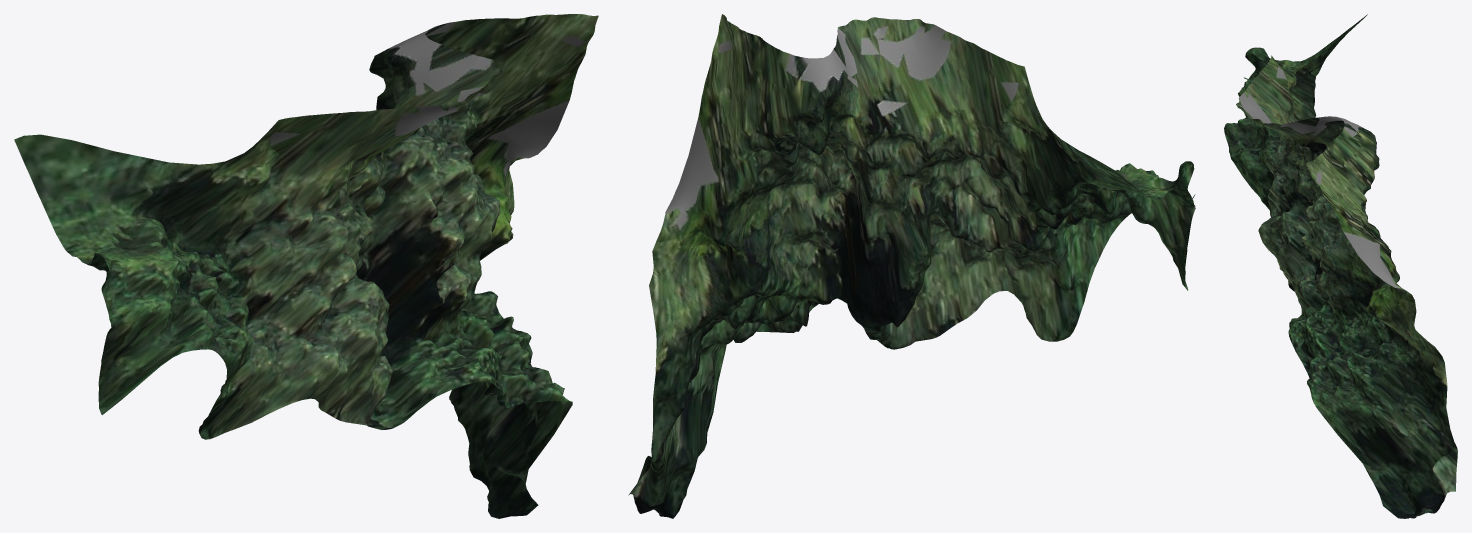
The model's file is Tile_+005_+003.fbx.
The picture shows the model from 3 angles, left to right: view 1: azimuth 30°, elevation 25°; view 2: azimuth 150°, elevation 25°; view 3: azimuth 270°, elevation 25°; orthographic projection. The views are drawn at different scales.
Visible parts, largest first — view 1: DefaultName; view 2: DefaultName; view 3: DefaultName.
Boxes of the visible parts, x1=… form: DefaultName: x1=14, y1=14, x2=598, y2=518; DefaultName: x1=628, y1=14, x2=1195, y2=518; DefaultName: x1=1224, y1=14, x2=1457, y2=518.
Size of the model in its own units: 22.54 by 22.38 by 13.25.
